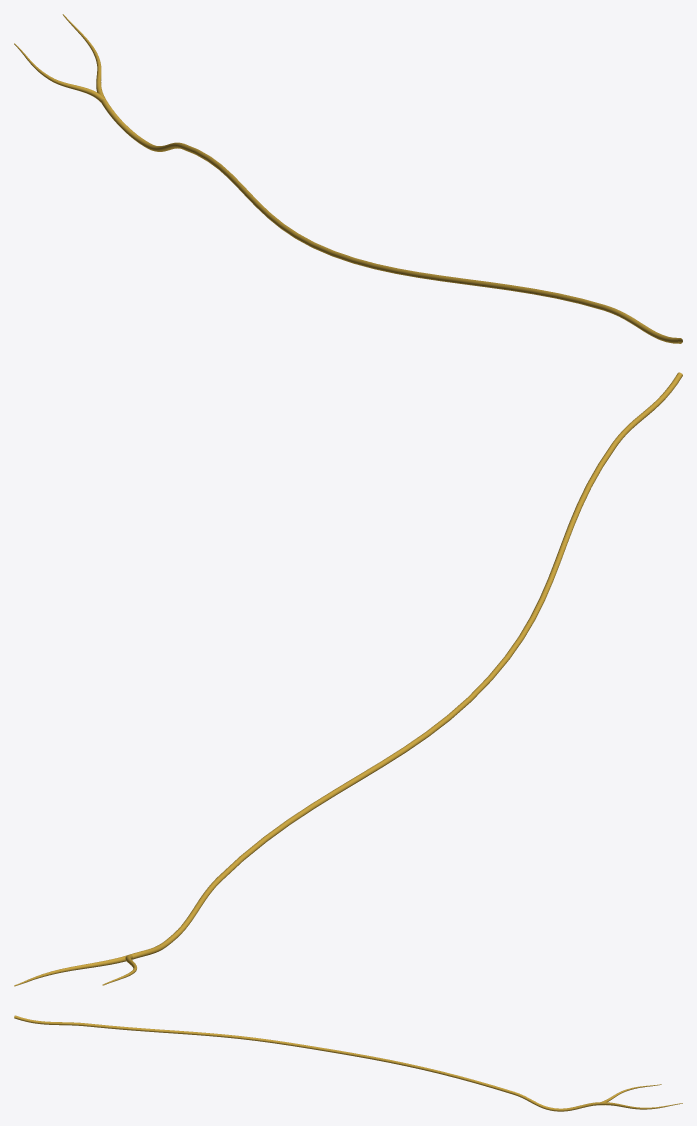
3 renders of one model, top to bottom at view 1: azimuth 30°, elevation 25°; view 2: azimuth 150°, elevation 25°; view 3: azimuth 270°, elevation 25°, orthographic. The views are drawn at different scales.
Visible parts, largest first — view 1: 右侧生殖股神经股支; view 2: 右侧生殖股神经股支; view 3: 右侧生殖股神经股支.
Boxes of the visible parts, <box> form: 右侧生殖股神经股支: <box>14,14,682,343</box>; 右侧生殖股神经股支: <box>14,372,682,986</box>; 右侧生殖股神经股支: <box>14,1015,682,1111</box>.
Bounding box in the file's own units: 0.0312 × 0.052 × 0.32.
